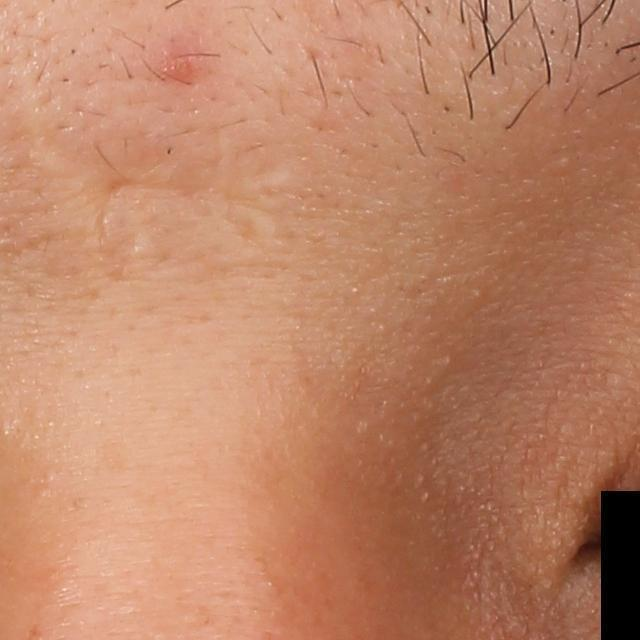other: (37, 121, 293, 282)
papule: (158, 46, 200, 86)
